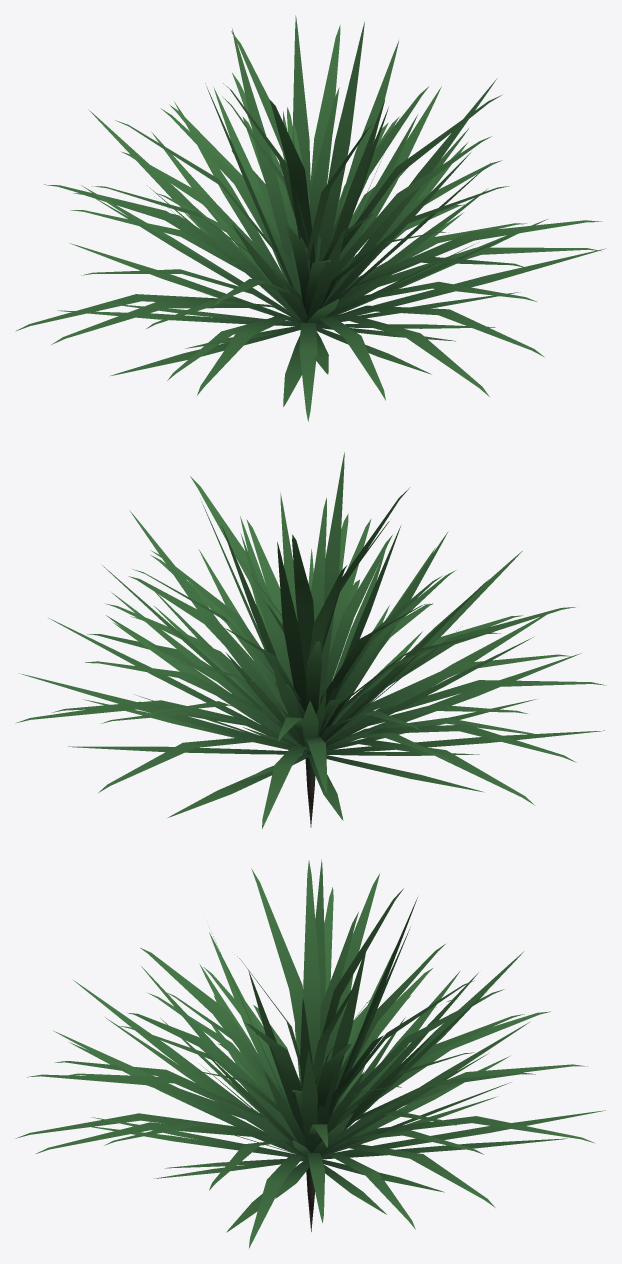
Rendered from plants-grasses-reeds-spiky-grass_v2.glb.
3 renders of one model, top to bottom at view 1: azimuth 30°, elevation 25°; view 2: azimuth 150°, elevation 25°; view 3: azimuth 270°, elevation 25°, orthographic. The views are drawn at different scales.
Parts seen in each view (by area): view 1: Spiky Grass_v2; view 2: Spiky Grass_v2; view 3: Spiky Grass_v2.
Boxes of the visible parts, box(x1,y1,x2,y2) form: Spiky Grass_v2: box(15, 15, 605, 421); Spiky Grass_v2: box(15, 452, 606, 828); Spiky Grass_v2: box(15, 859, 605, 1248).
Bounding box in the file's own units: 0.5942 × 0.3708 × 0.6.
